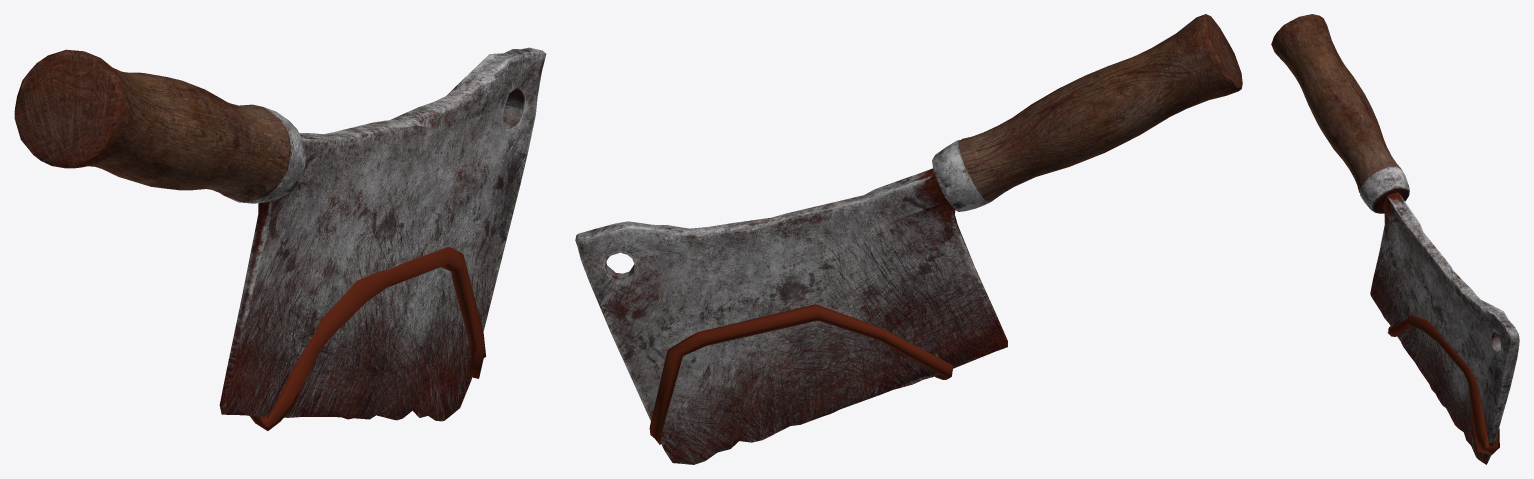
The model's file is SM_CoupCut_00.fbx.
The picture shows the model from 3 angles, left to right: view 1: azimuth 30°, elevation 25°; view 2: azimuth 150°, elevation 25°; view 3: azimuth 270°, elevation 25°; orthographic projection. The views are drawn at different scales.
Parts seen in each view (by area): view 1: SM_CoupCut_00; view 2: SM_CoupCut_00; view 3: SM_CoupCut_00.
Boxes of the visible parts, x1=… form: SM_CoupCut_00: x1=14, y1=47, x2=546, y2=430; SM_CoupCut_00: x1=575, y1=14, x2=1242, y2=464; SM_CoupCut_00: x1=1271, y1=14, x2=1519, y2=464.
Size of the model in its own units: 46.59 by 38.51 by 27.65.
